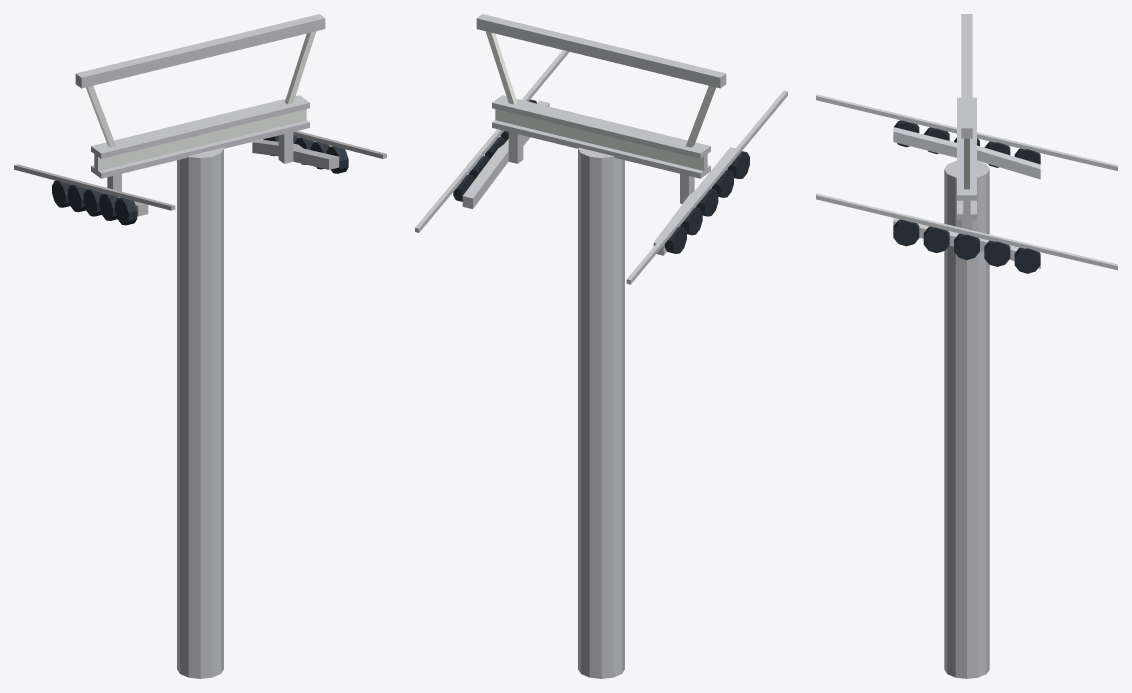
The model's file is Pole.glb.
The picture shows the model from 3 angles, left to right: view 1: azimuth 30°, elevation 25°; view 2: azimuth 150°, elevation 25°; view 3: azimuth 270°, elevation 25°; orthographic projection. The views are drawn at different scales.
Visible parts, largest first — view 1: Pole; view 2: Pole; view 3: Pole.
Boxes of the visible parts, x1,y1,x2,y2 form: Pole: [14, 14, 386, 678]; Pole: [415, 14, 787, 678]; Pole: [816, 14, 1117, 678].
Bounding box in the file's own units: 32.34 × 78.97 × 36.11.
1 material, 1 textured.
